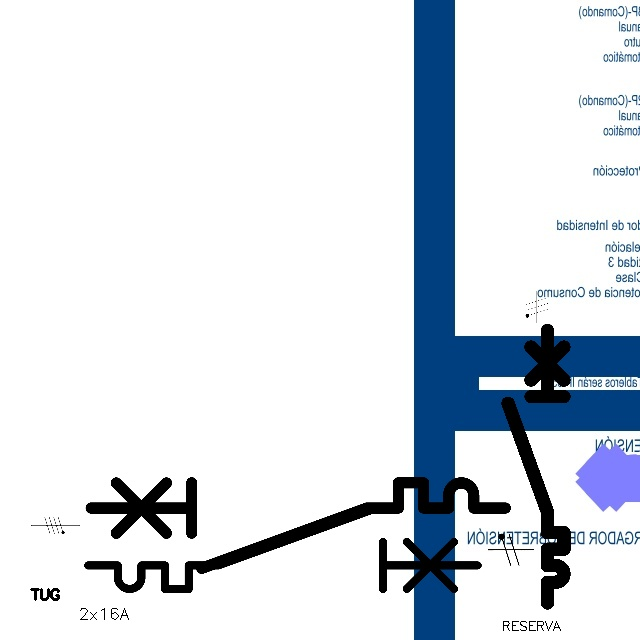interruptor_termomagnetico: (80, 472, 516, 578), (78, 499, 487, 599), (501, 323, 571, 610)
